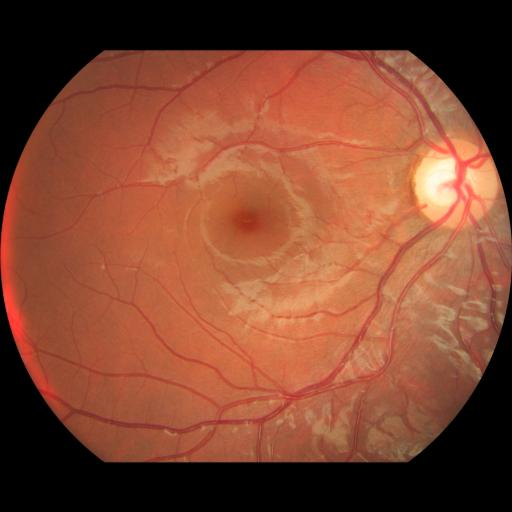Optic Cup: (425, 156, 471, 206)
Optic Disc: (415, 139, 499, 228)
